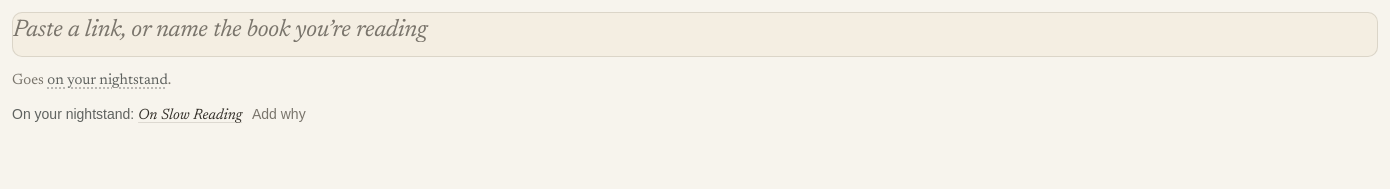
it: why it waits can be added after the save, in a line
Click the button "Add why".
click(279, 114)  # box [252,103,306,126]
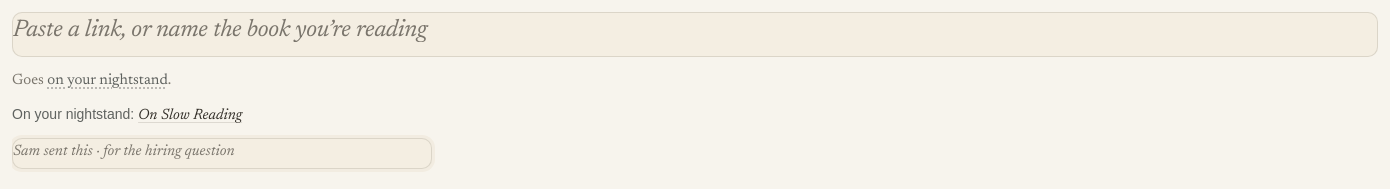
Type "Sam sent this " into the field named "Why you saved it".
click(222, 153); type("Sam sent this ")  # box [12,138,432,169]
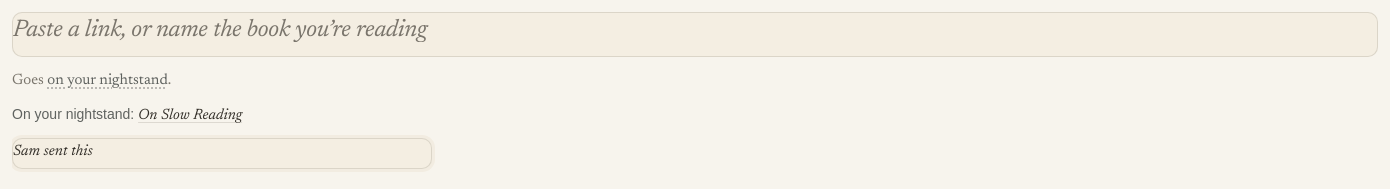
Press Enter in the field named "Why you saved it", box [12,138,432,169]
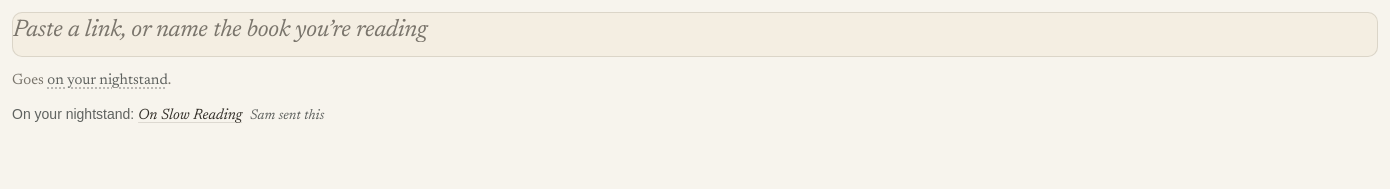
Expected: the button "Add why" is not shown
Result: the message reads "On your nightstand: On Slow Reading Sam sent this" at [12,105,324,128]
